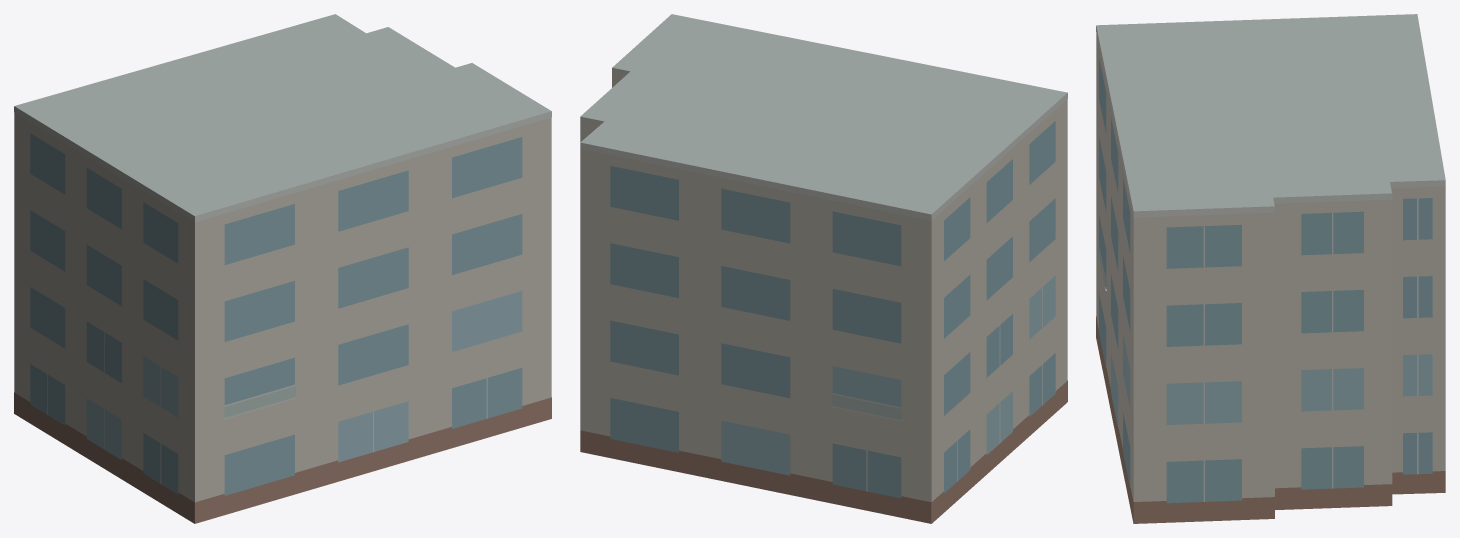
The model's file is survey-upis-32799351.glb.
3 views of the same model, side by side, from view 1: azimuth 30°, elevation 25°; view 2: azimuth 150°, elevation 25°; view 3: azimuth 270°, elevation 25° (orthographic).
Visible parts, largest first — view 1: survey-upis-32799351.tmp; view 2: survey-upis-32799351.tmp; view 3: survey-upis-32799351.tmp.
Part boxes in pixels (<box>): survey-upis-32799351.tmp: <box>14,14,551,523</box>; survey-upis-32799351.tmp: <box>580,14,1067,523</box>; survey-upis-32799351.tmp: <box>1096,14,1445,523</box>.
Bounding box in the file's own units: 16.53 × 12.2 × 12.38.
